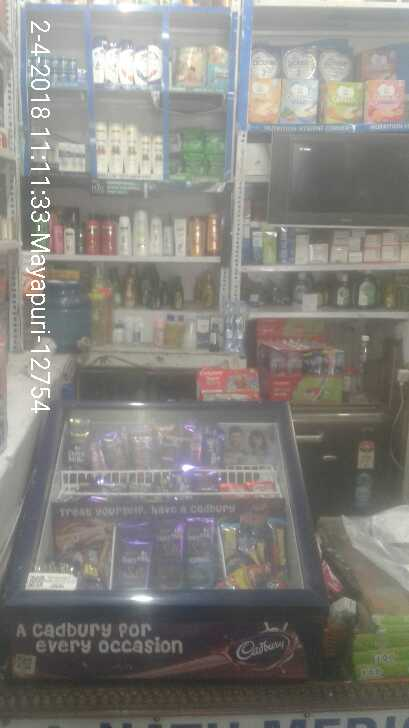vicks: (30, 54, 88, 82)
